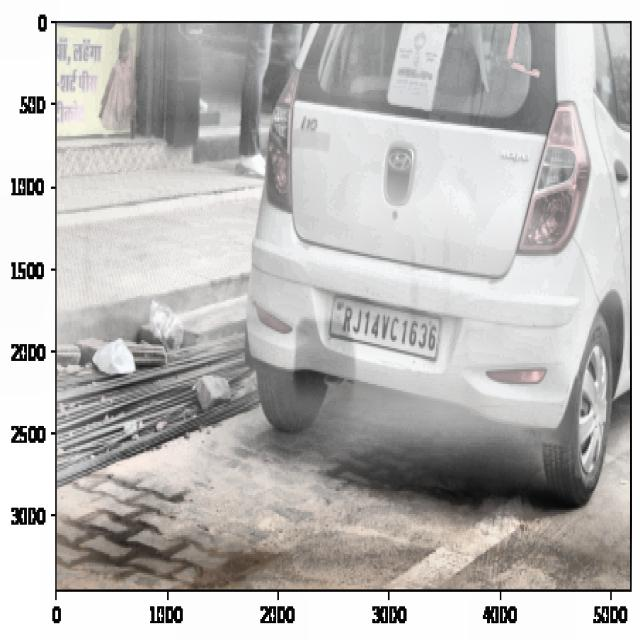license_plate: (339, 301, 439, 354)
